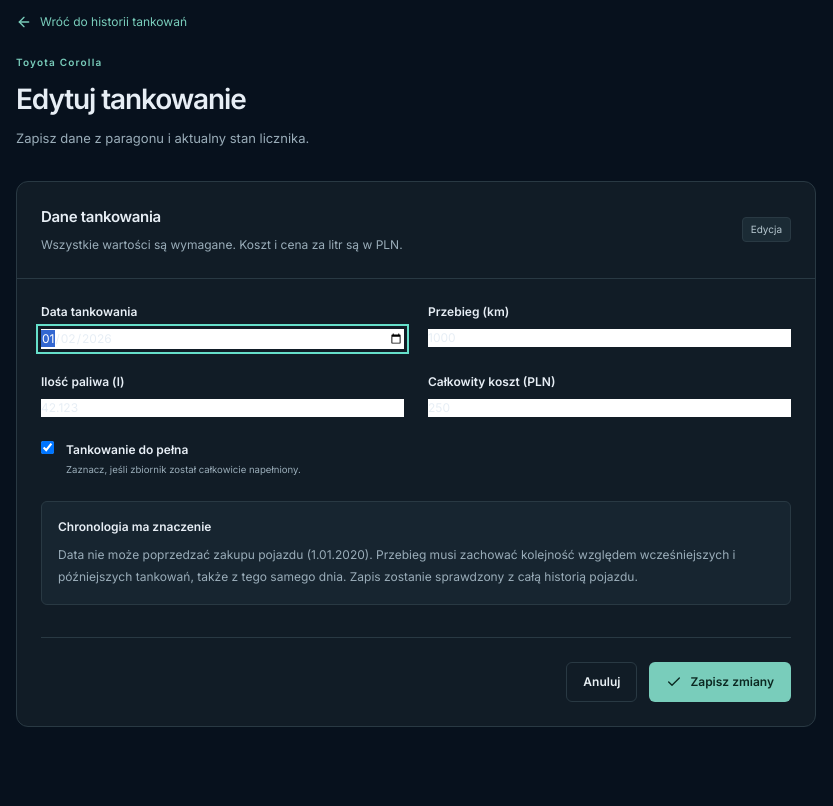
Test: fuel history and CRUD › shows chronology errors from backend without losing input
Expected: the date field labelled "Data tankowania" is shown, [41,329,404,349]
Click the button "Zapisz zmiany". click: point(720, 682)
box: [649,662,791,702]
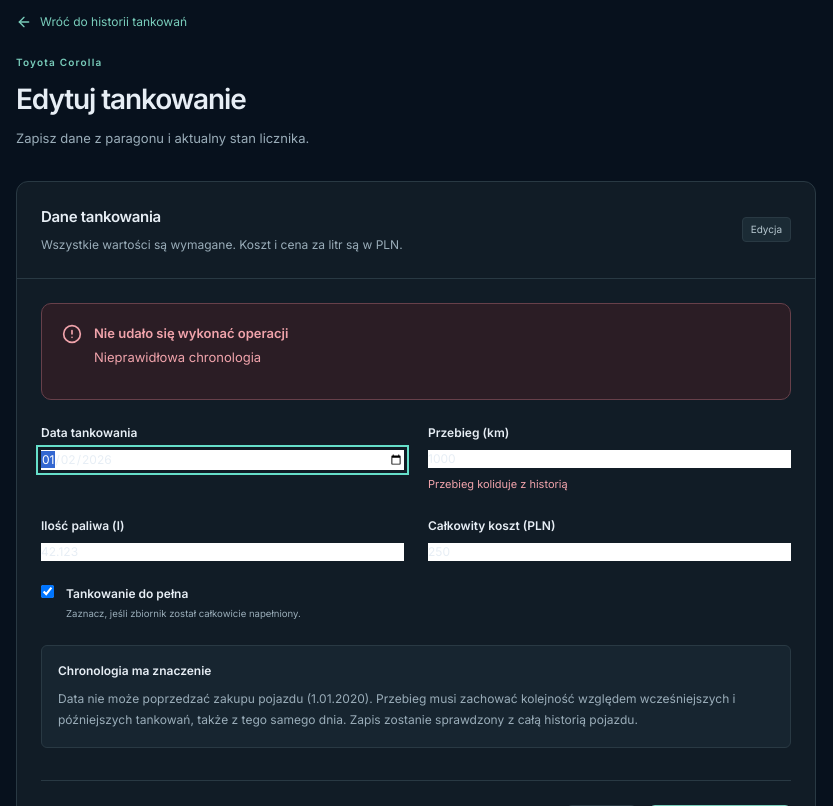
Expected: the number field labelled "Przebieg (km) Przebieg koliduje z historią" holds "1000", [428,450,791,468]
Result: the text "Nieprawidłowa chronologia" is shown at [94,348,288,367]
Result: the text "Przebieg koliduje z historią" is shown at [428,477,568,491]
